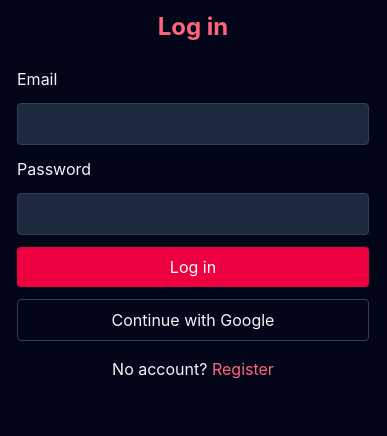
shows an error for a wrong email or password
The width and height of the screenshot is (387, 436).
Type "a@b.com" into the field labelled "Email" at x=193, y=124, box left=17, top=103, right=369, bottom=145
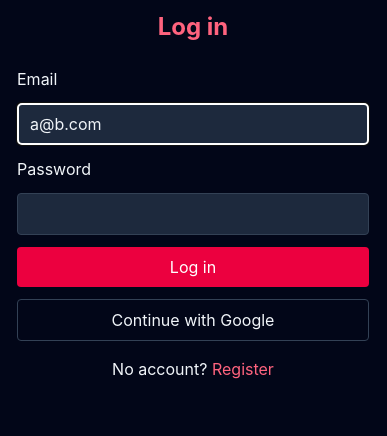
Type "123456" into the password field labelled "Password" at x=193, y=214, box left=17, top=193, right=369, bottom=235
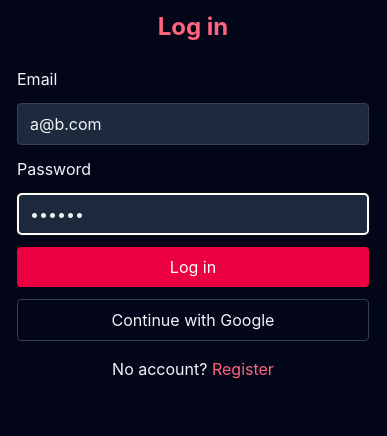
Click the button "Log in" at x=193, y=267, box left=17, top=247, right=369, bottom=287
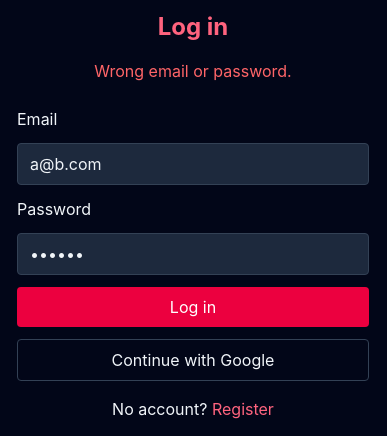
Expected: the text "Wrong email or password." is shown, left=94, top=61, right=292, bottom=81
